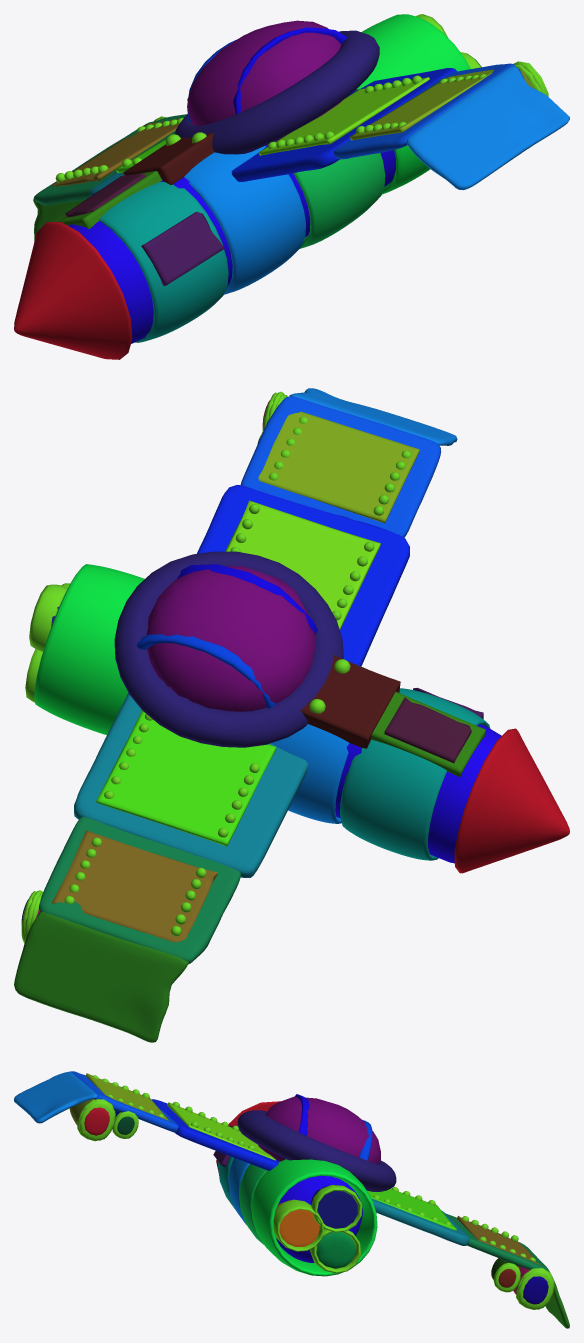
Rendered from SHIP_low.fbx.
3 views of the same model, one above another, from view 1: azimuth 30°, elevation 25°; view 2: azimuth 150°, elevation 25°; view 3: azimuth 270°, elevation 25° (orthographic). The views are drawn at different scales.
Parts seen in each view (by area): view 1: SHIP_low; view 2: SHIP_low; view 3: SHIP_low.
Boxes of the visible parts, <box> form: SHIP_low: <box>14,14,569,359</box>; SHIP_low: <box>14,388,569,1042</box>; SHIP_low: <box>14,1071,569,1328</box>.
Size of the model in its own units: 1.54 by 1.12 by 2.06.
